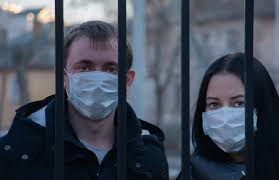with-mask: (57, 16, 137, 123), (196, 49, 270, 155)
